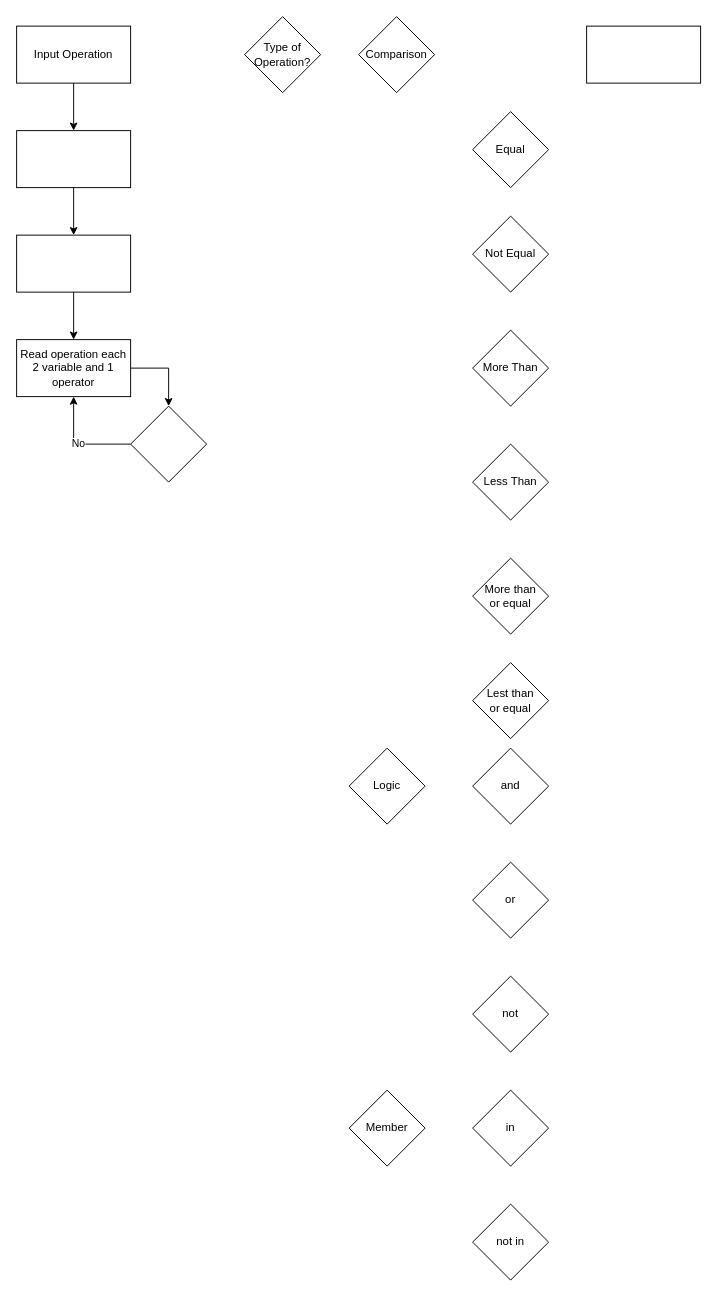
Some shapes in this 717 by 1297 pixel diagram are drawn without their labels. Each missing label, with the centre of its shape:
"Add brackets at the beginning and end of the operation" goes at point 73,159.
"Check Value" goes at point 643,54.
"If close bracket?" goes at point 168,443.
"start operation function" goes at point 73,263.
